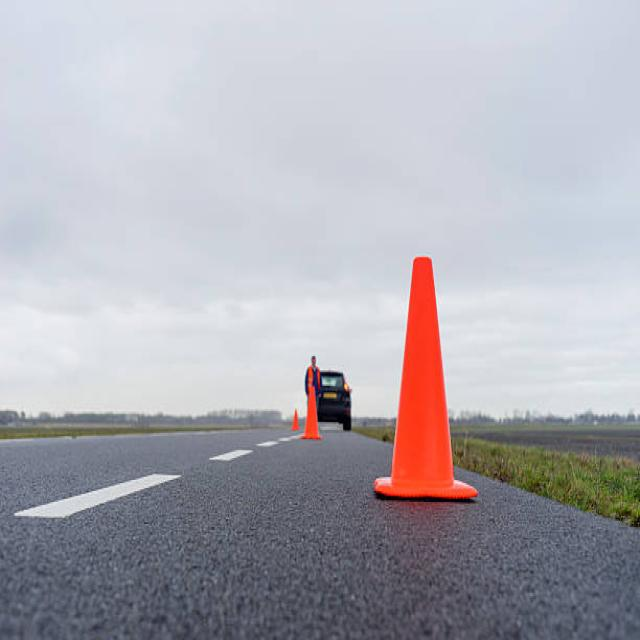Traffic Cone: (362, 223, 492, 532)
